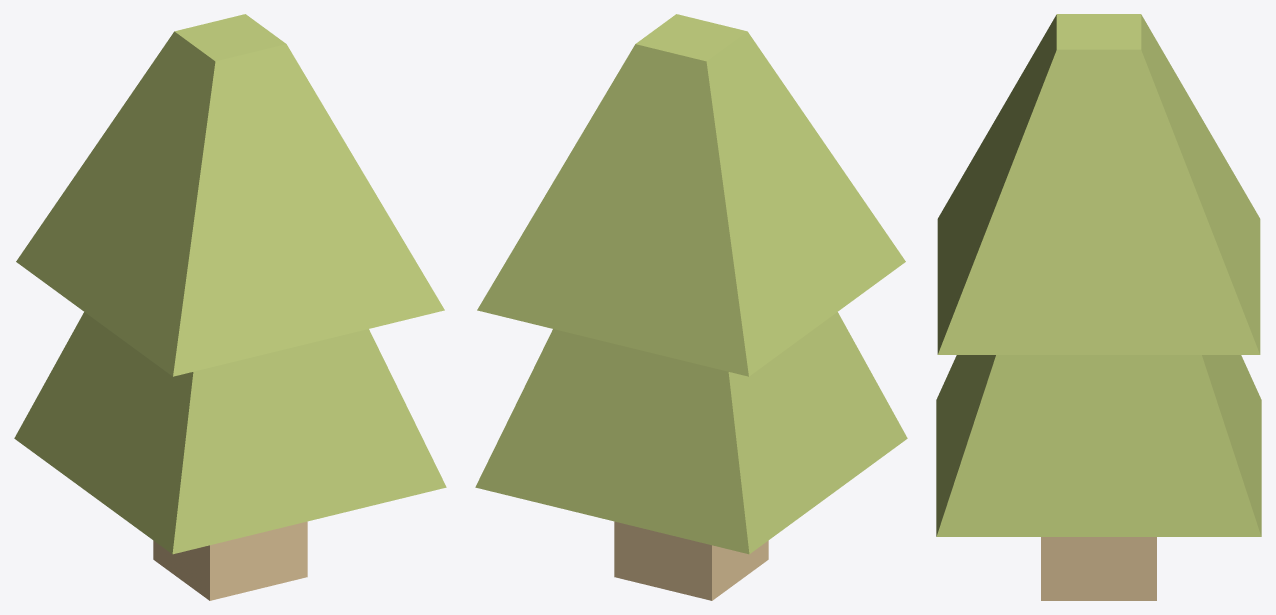
File: Tree_2.fbx
3 views of the same model, side by side, from view 1: azimuth 30°, elevation 25°; view 2: azimuth 150°, elevation 25°; view 3: azimuth 270°, elevation 25° (orthographic). The views are drawn at different scales.
Parts seen in each view (by area): view 1: Tree.001; view 2: Tree.001; view 3: Tree.001.
Part boxes in pixels (bbox=[...]): Tree.001: bbox=[14, 14, 446, 600]; Tree.001: bbox=[475, 14, 907, 600]; Tree.001: bbox=[936, 14, 1261, 600].
Size of the model in its own units: 199 by 368 by 199.
